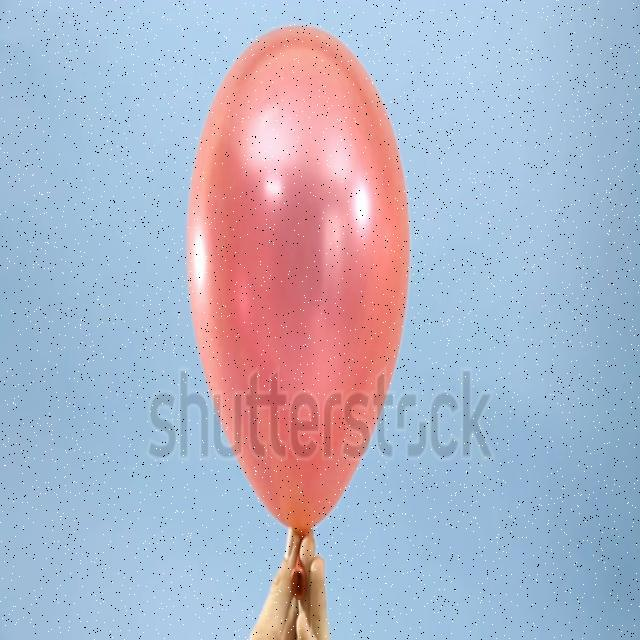red: (185, 18, 416, 531)
